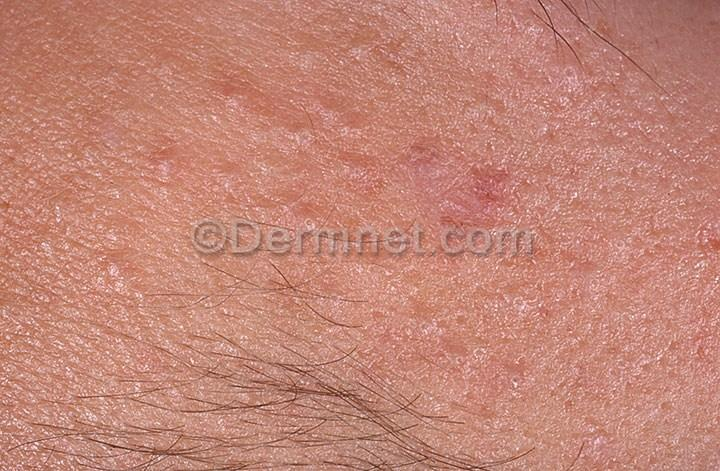Acne: (439, 156, 514, 240), (326, 111, 384, 193)
